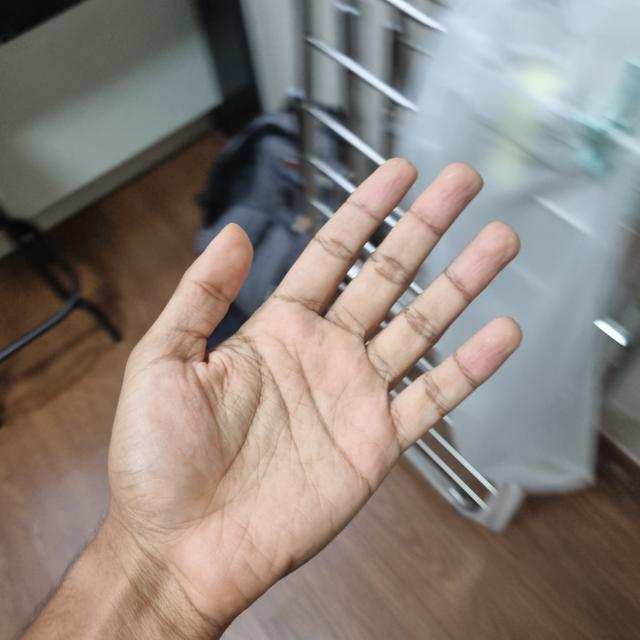Paper: (217, 162, 520, 591)
